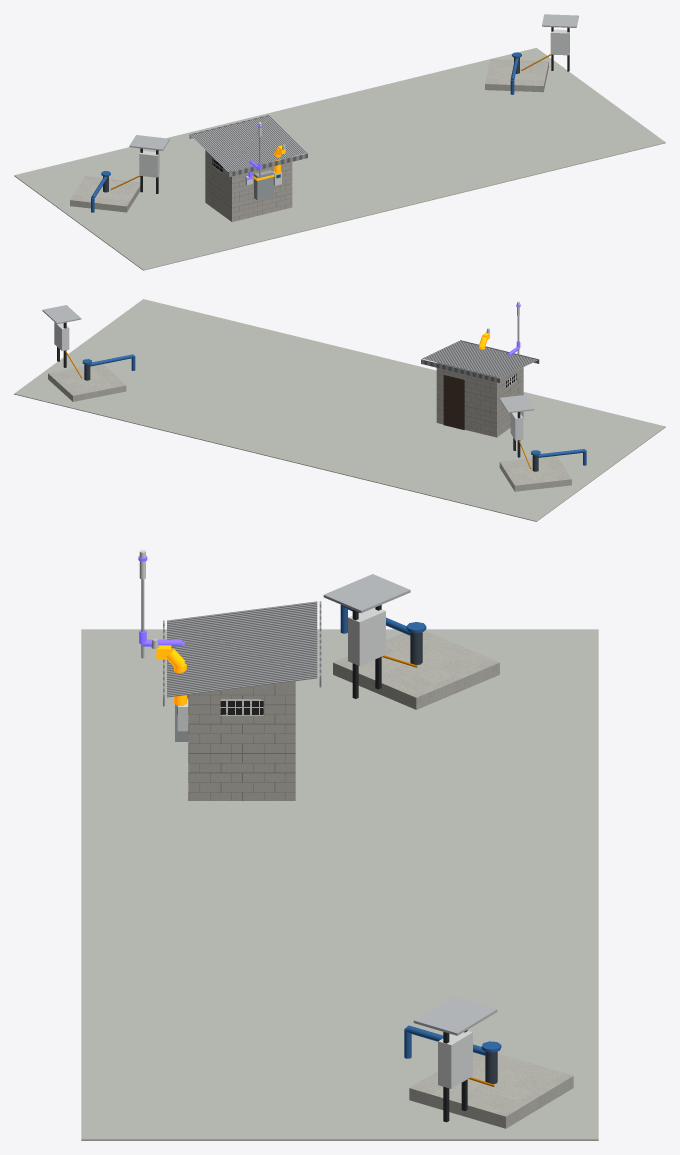
Rendered from captacion_lod1.glb.
3 views of the same model, one above another, from view 1: azimuth 30°, elevation 25°; view 2: azimuth 150°, elevation 25°; view 3: azimuth 270°, elevation 25° (orthographic). The views are drawn at different scales.
Parts seen in each view (by area): view 1: entorno, obra_nueva_cubierta, obra_nueva_estructura, punto_conexion; view 2: entorno, obra_nueva_estructura, obra_nueva_cubierta; view 3: entorno, obra_nueva_estructura, obra_nueva_cubierta.
Part boxes in pixels (x1=…): entorno: x1=14, y1=14, x2=665, y2=270; obra_nueva_cubierta: x1=189, y1=115, x2=307, y2=177; obra_nueva_estructura: x1=205, y1=150, x2=292, y2=221; punto_conexion: x1=253, y1=144, x2=285, y2=200; entorno: x1=14, y1=299, x2=665, y2=521; obra_nueva_estructura: x1=436, y1=362, x2=523, y2=437; obra_nueva_cubierta: x1=421, y1=340, x2=539, y2=382; entorno: x1=81, y1=574, x2=598, y2=1140; obra_nueva_estructura: x1=188, y1=681, x2=295, y2=800; obra_nueva_cubierta: x1=163, y1=601, x2=321, y2=706.
Size of the model in its own units: 22.8 by 4.29 by 9.65.
11 materials, 4 textured.
